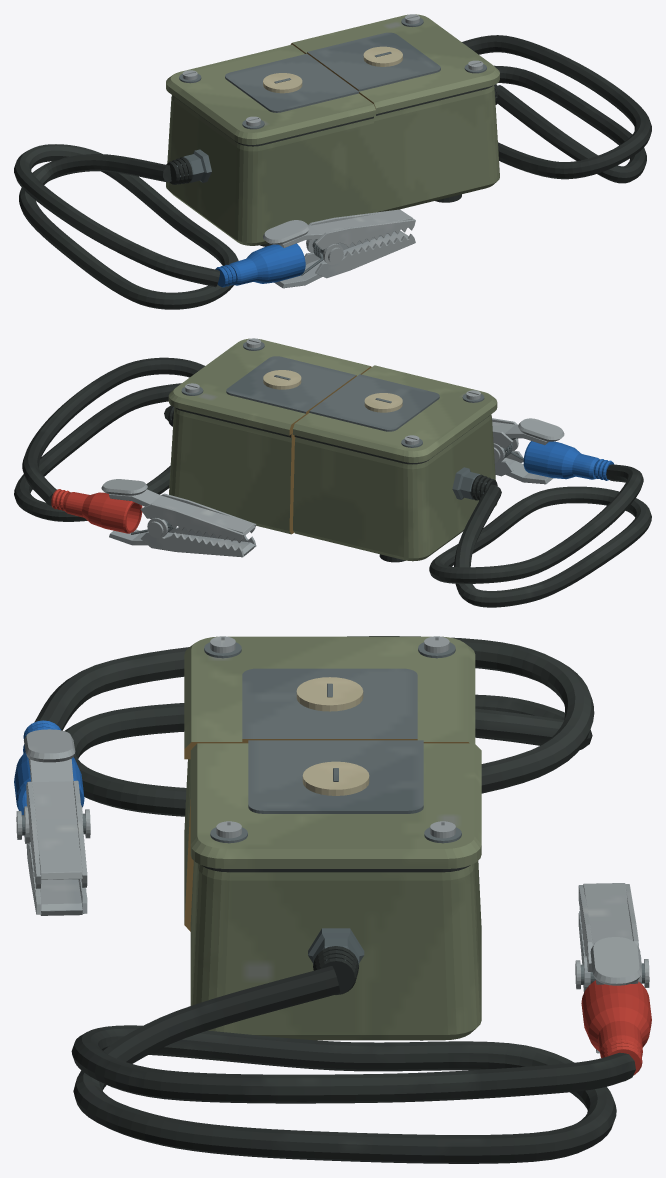
Rendered from Cut_bypass_a_TwoFragments_M410.fbx.
The picture shows the model from 3 angles, top to bottom: view 1: azimuth 30°, elevation 25°; view 2: azimuth 150°, elevation 25°; view 3: azimuth 270°, elevation 25°; orthographic projection. The views are drawn at different scales.
Parts seen in each view (by area): view 1: Cut_bypass_a_Fragment0, Cut_bypass_a_Fragment1; view 2: Cut_bypass_a_Fragment0, Cut_bypass_a_Fragment1; view 3: Cut_bypass_a_Fragment1, Cut_bypass_a_Fragment0.
Boxes of the visible parts, box(x1,y1,x2,y2) form: Cut_bypass_a_Fragment0: box(14, 44, 415, 309); Cut_bypass_a_Fragment1: box(290, 14, 651, 212); Cut_bypass_a_Fragment0: box(293, 365, 651, 607); Cut_bypass_a_Fragment1: box(14, 338, 371, 557); Cut_bypass_a_Fragment1: box(71, 740, 651, 1163); Cut_bypass_a_Fragment0: box(14, 636, 594, 931).
Size of the model in its own units: 125 by 28.9 by 74.56.
7 materials, 6 textured.
